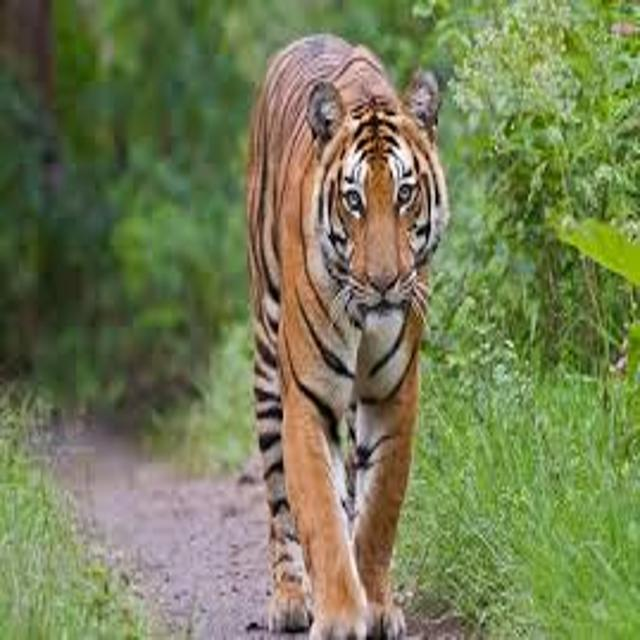Tiger: (170, 35, 490, 640)
